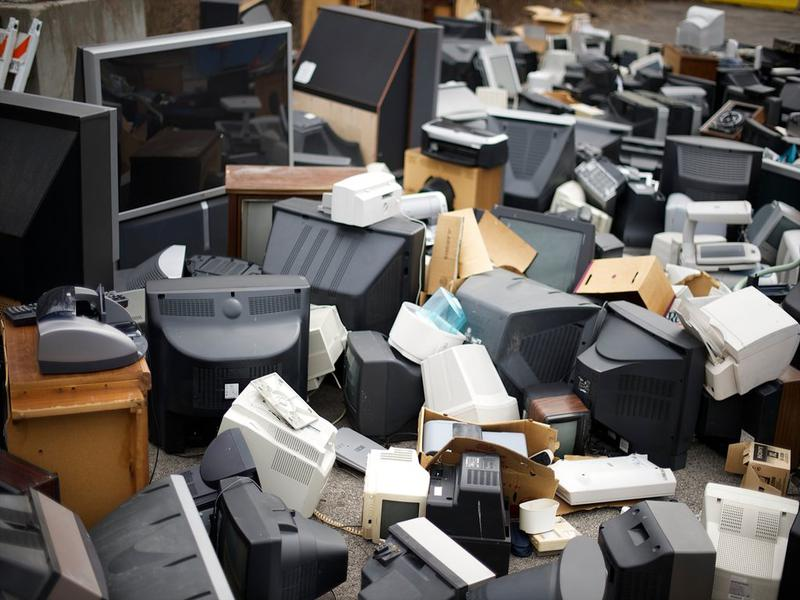tv_pc: (68, 15, 302, 221), (147, 272, 320, 460), (297, 7, 447, 174), (259, 193, 430, 329), (577, 297, 705, 472), (213, 469, 361, 600), (697, 477, 800, 600), (336, 329, 433, 444), (656, 128, 764, 210), (356, 444, 436, 547), (460, 39, 526, 104), (667, 5, 729, 51)
